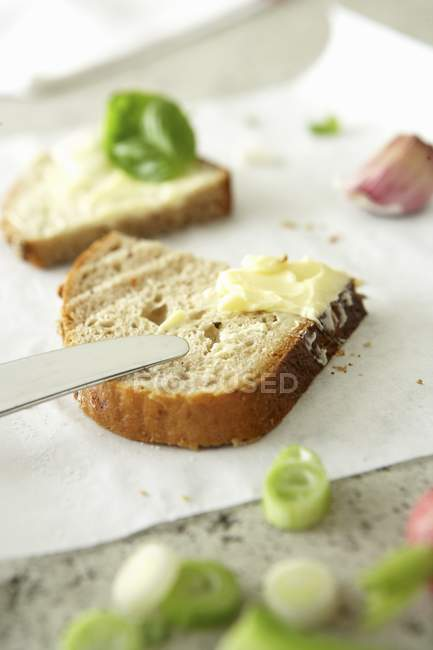slice of bread: (85, 241, 363, 332)
